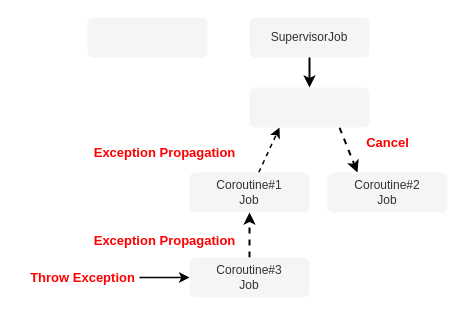
The diagram is 464 pixels wide and 314 high, and some of its shapes have lost their labels. Here are the shapes that lost their labels. From the top down, the centre of each, then its label:
At (x=147, y=37): "runBlocking Job".
At (x=309, y=107): "ParentCoroutine Job".
